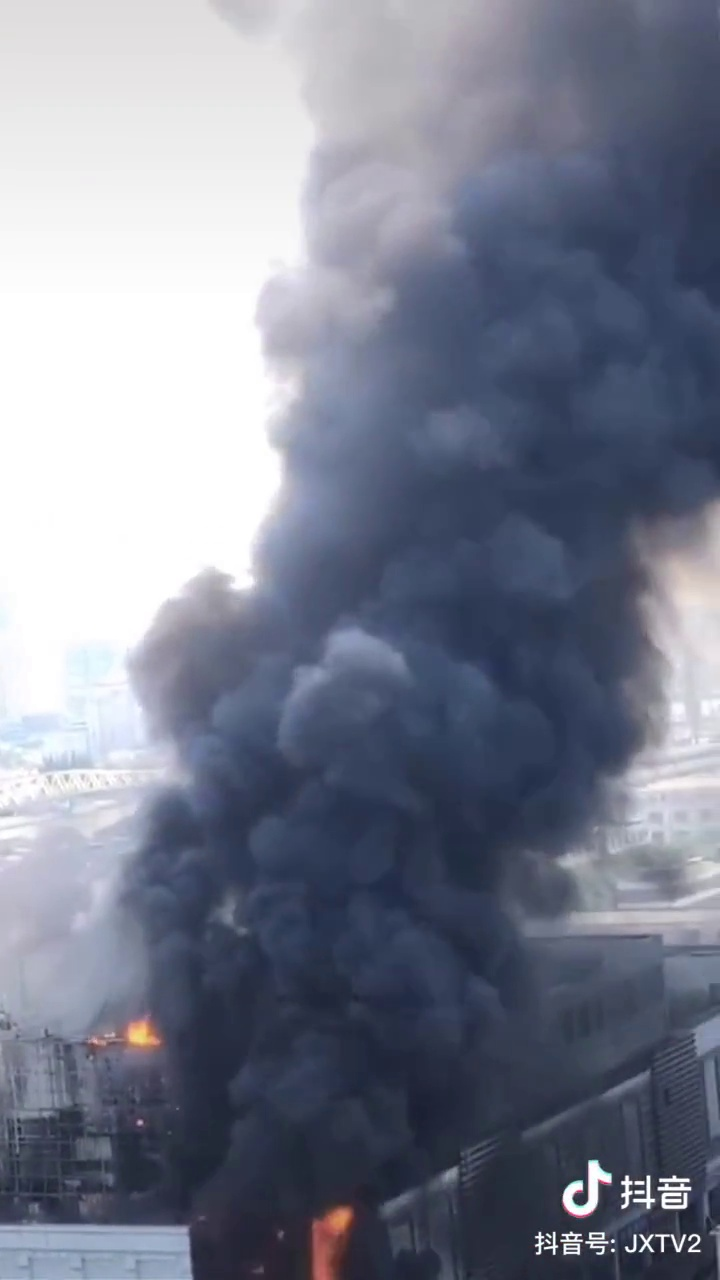fire: (292, 1198, 357, 1267)
smoke: (206, 16, 659, 1122)
